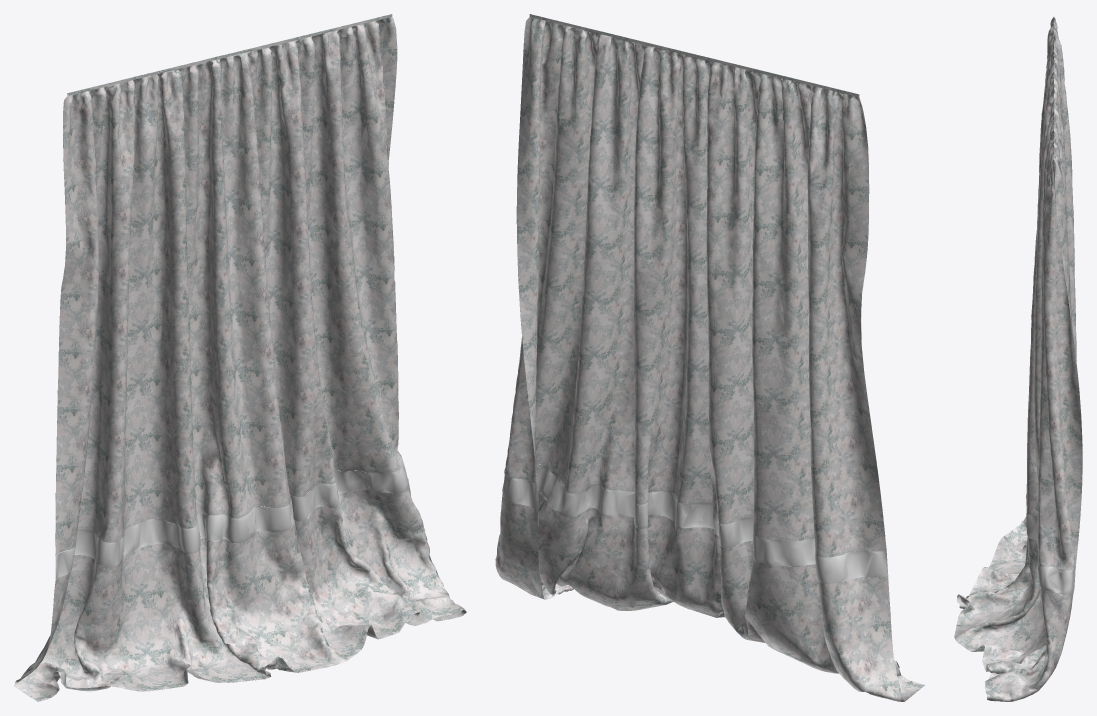
File: curtain_sheer.glb
3 renders of one model, left to right at view 1: azimuth 30°, elevation 25°; view 2: azimuth 150°, elevation 25°; view 3: azimuth 270°, elevation 25°, orthographic. The views are drawn at different scales.
Parts seen in each view (by area): view 1: Object_2, Object_5; view 2: Object_2, Object_5; view 3: Object_2, Object_5.
Part boxes in pixels (<box>): Object_2: <box>14,14,466,701</box>; Object_5: <box>55,453,408,580</box>; Object_2: <box>495,14,924,701</box>; Object_5: <box>502,464,888,583</box>; Object_2: <box>954,17,1082,701</box>; Object_5: <box>1026,493,1076,594</box>.
Size of the model in its own units: 1.8 by 2.44 by 0.537.
Materials: 2 (1 with a texture image).
